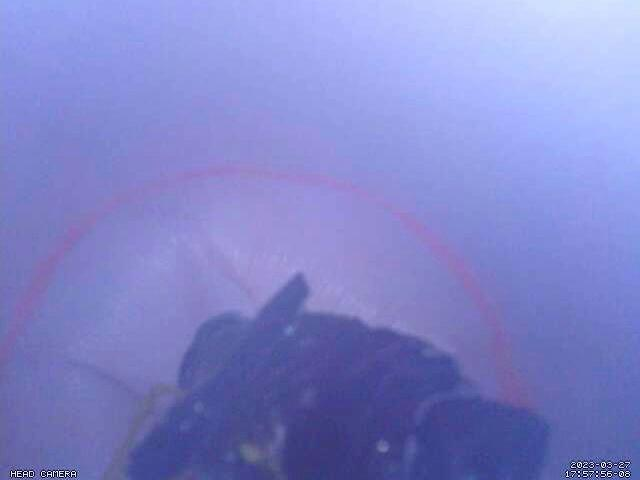head: (0, 164, 537, 412)
